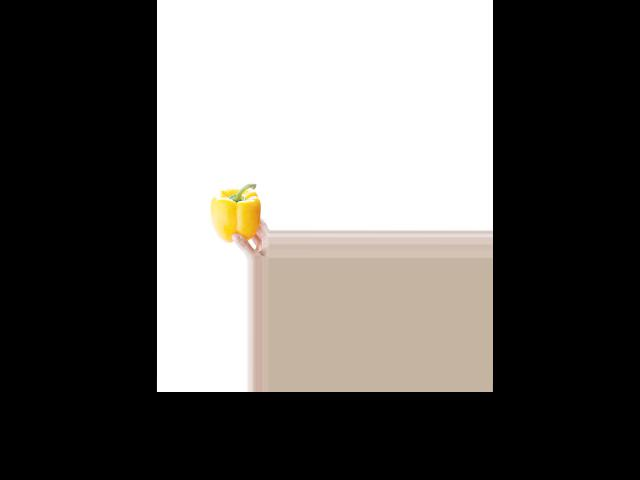bell_pepper: (209, 180, 260, 243)
